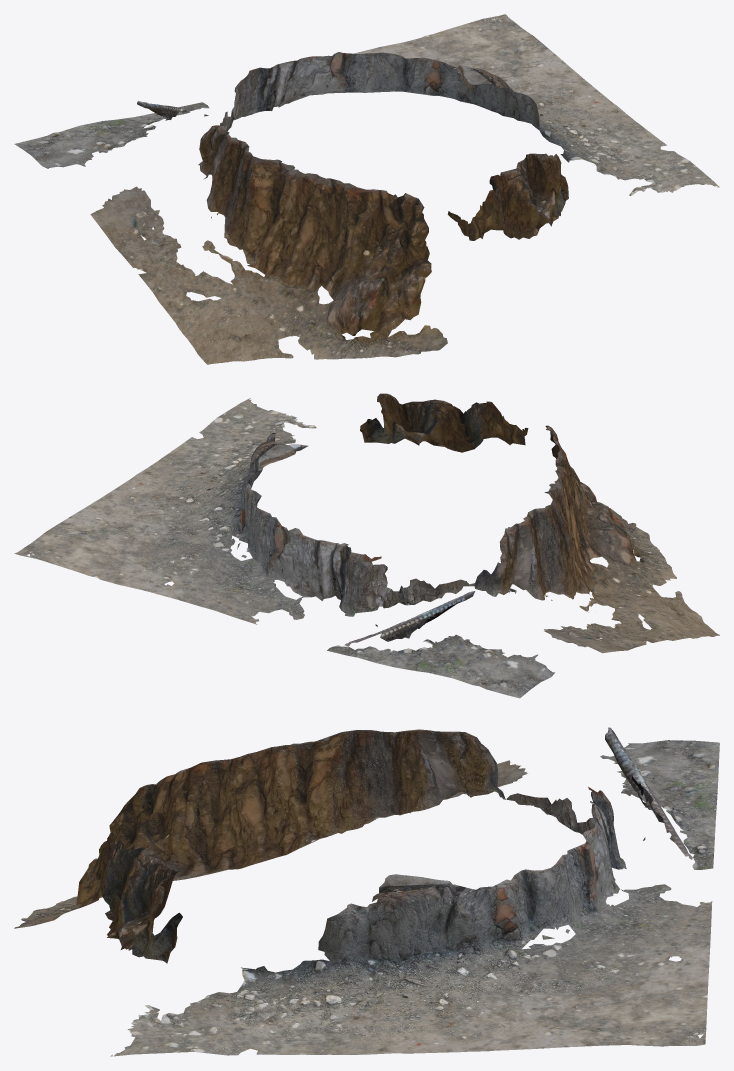
Rendered from stump1.glb.
The picture shows the model from 3 angles, top to bottom: view 1: azimuth 30°, elevation 25°; view 2: azimuth 150°, elevation 25°; view 3: azimuth 270°, elevation 25°; orthographic projection. The views are drawn at different scales.
Parts seen in each view (by area): view 1: Object_2; view 2: Object_2; view 3: Object_2.
Boxes of the visible parts, <box> form: Object_2: <box>14,14,719,364</box>; Object_2: <box>14,393,719,698</box>; Object_2: <box>14,727,719,1056</box>.
Size of the model in its own units: 0.8991 by 0.2617 by 0.8307.
1 material, 1 textured.
